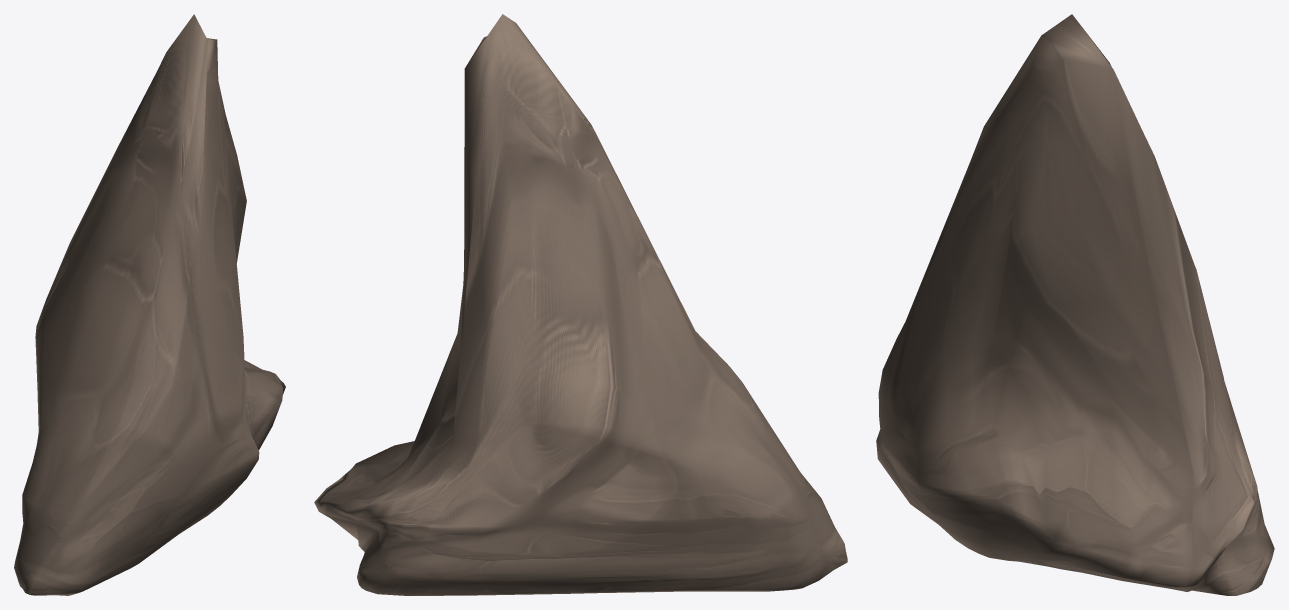
3 renders of one model, left to right at view 1: azimuth 30°, elevation 25°; view 2: azimuth 150°, elevation 25°; view 3: azimuth 270°, elevation 25°, orthographic. The views are drawn at different scales.
Visible parts, largest first — view 1: pasted__ZBrush_defualt_group; view 2: pasted__ZBrush_defualt_group; view 3: pasted__ZBrush_defualt_group.
Boxes of the visible parts, x1,y1,x2,y2 form: pasted__ZBrush_defualt_group: (14, 14, 285, 595); pasted__ZBrush_defualt_group: (314, 14, 847, 595); pasted__ZBrush_defualt_group: (876, 14, 1274, 595).
Bounding box in the file's own units: 3.79 × 4.97 × 3.09.
Materials: 1 (1 with a texture image).
